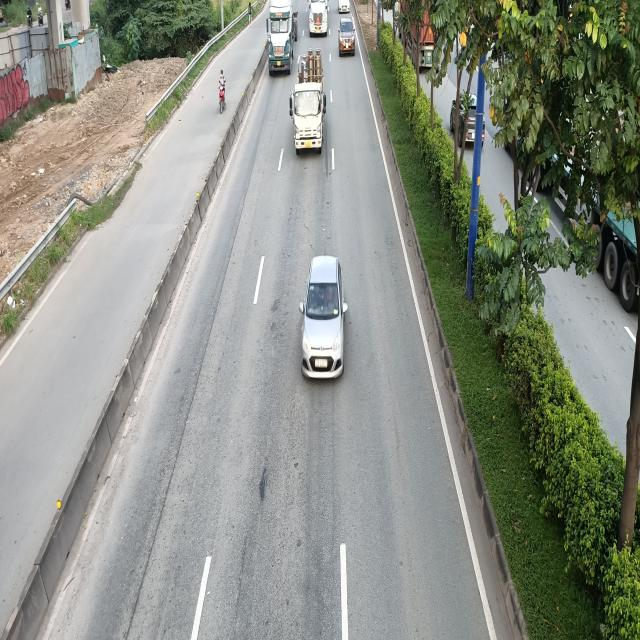car: (302, 254, 350, 379), (339, 17, 356, 57)
container: (267, 0, 299, 75), (308, 0, 329, 35)
truck: (288, 49, 326, 155)
